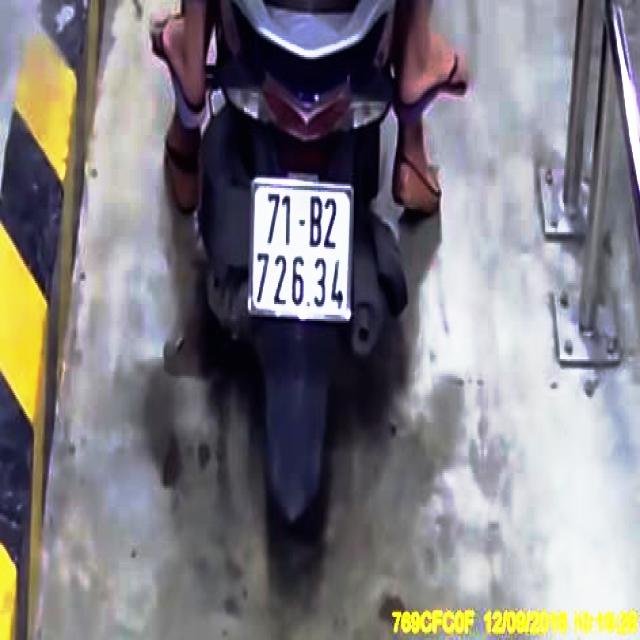license_plate: (249, 179, 355, 321)
